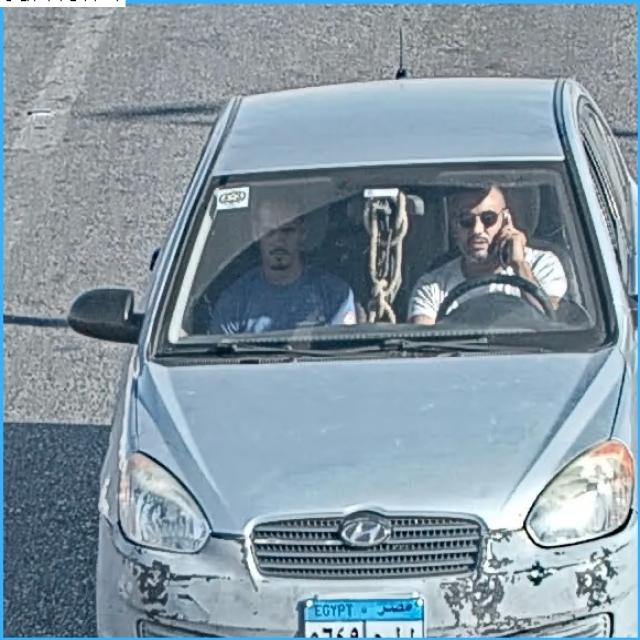windshield: (166, 158, 593, 352)
